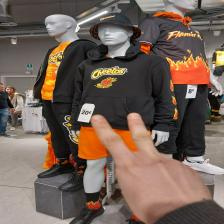two: (78, 106, 199, 212)
